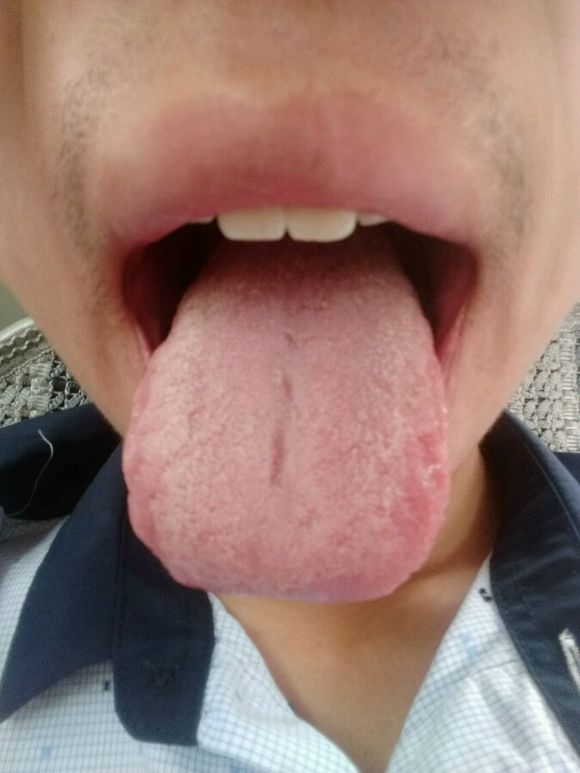baitaishe: (121, 228, 448, 604)
chihenshe: (121, 445, 158, 552)
liewenshe: (268, 371, 295, 488)
